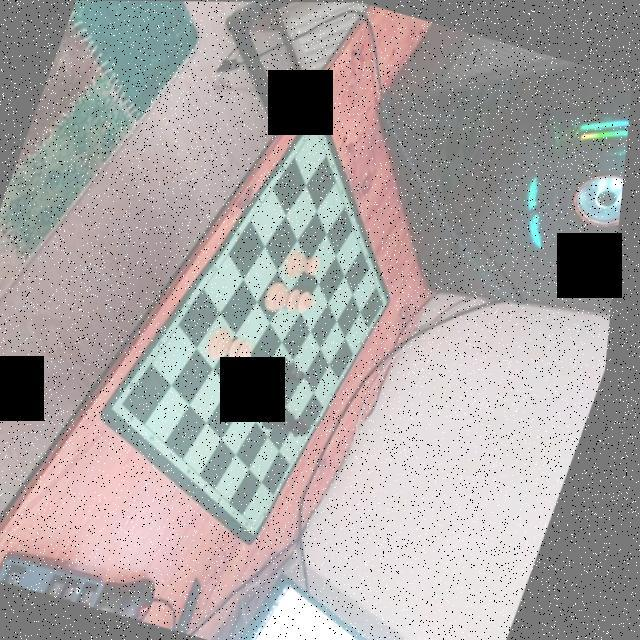chess-table-corners: (122, 394, 138, 412), (258, 514, 272, 534), (381, 294, 394, 312), (310, 119, 322, 135)
